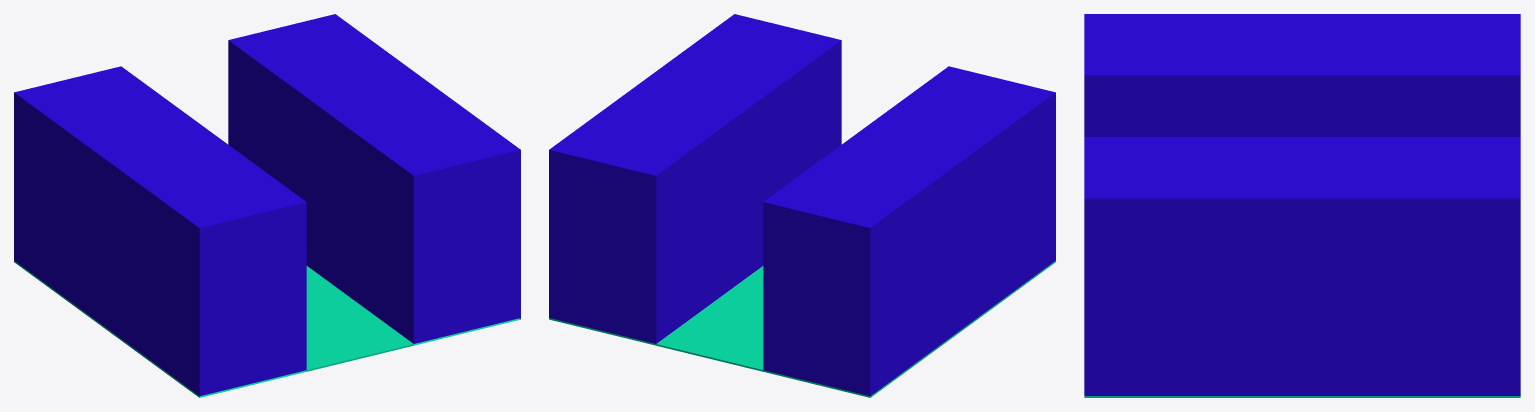
File: Block1.glb
The picture shows the model from 3 angles, left to right: view 1: azimuth 30°, elevation 25°; view 2: azimuth 150°, elevation 25°; view 3: azimuth 270°, elevation 25°; orthographic projection. The views are drawn at different scales.
Parts seen in each view (by area): view 1: 1Way; view 2: 1Way; view 3: 1Way.
Boxes of the visible parts, <box> form: 1Way: <box>14,14,520,397</box>; 1Way: <box>549,14,1055,397</box>; 1Way: <box>1084,14,1520,397</box>.
Bounding box in the file's own units: 2 × 1.01 × 2.
